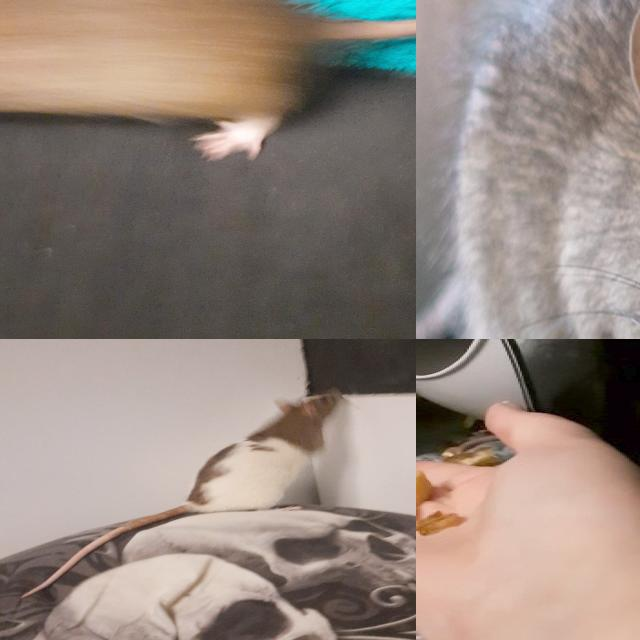rat: (457, 0, 640, 339), (0, 0, 327, 161), (177, 388, 350, 514)
